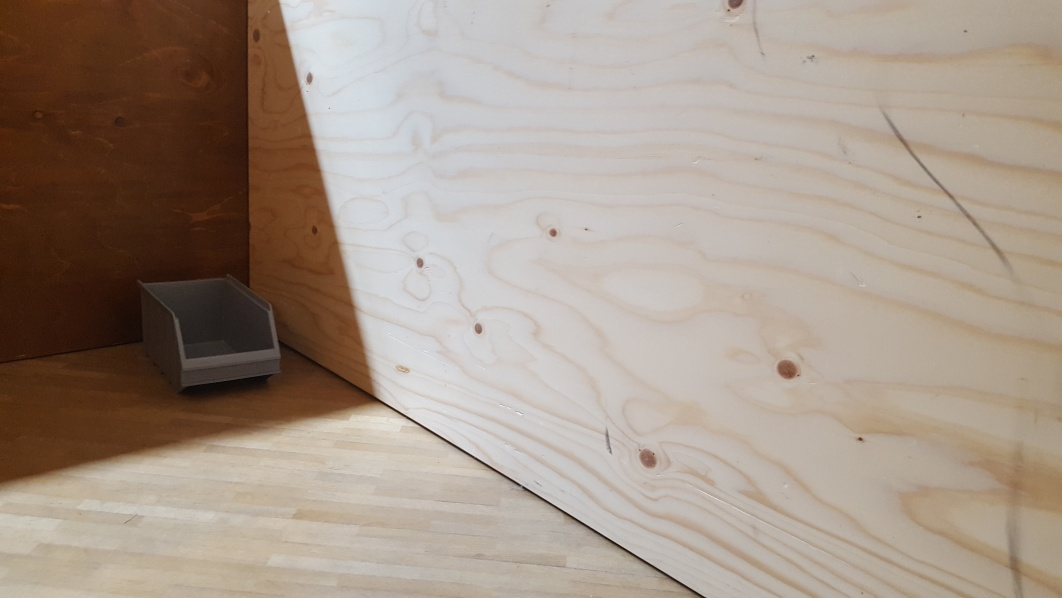tray: (145, 277, 281, 393)
